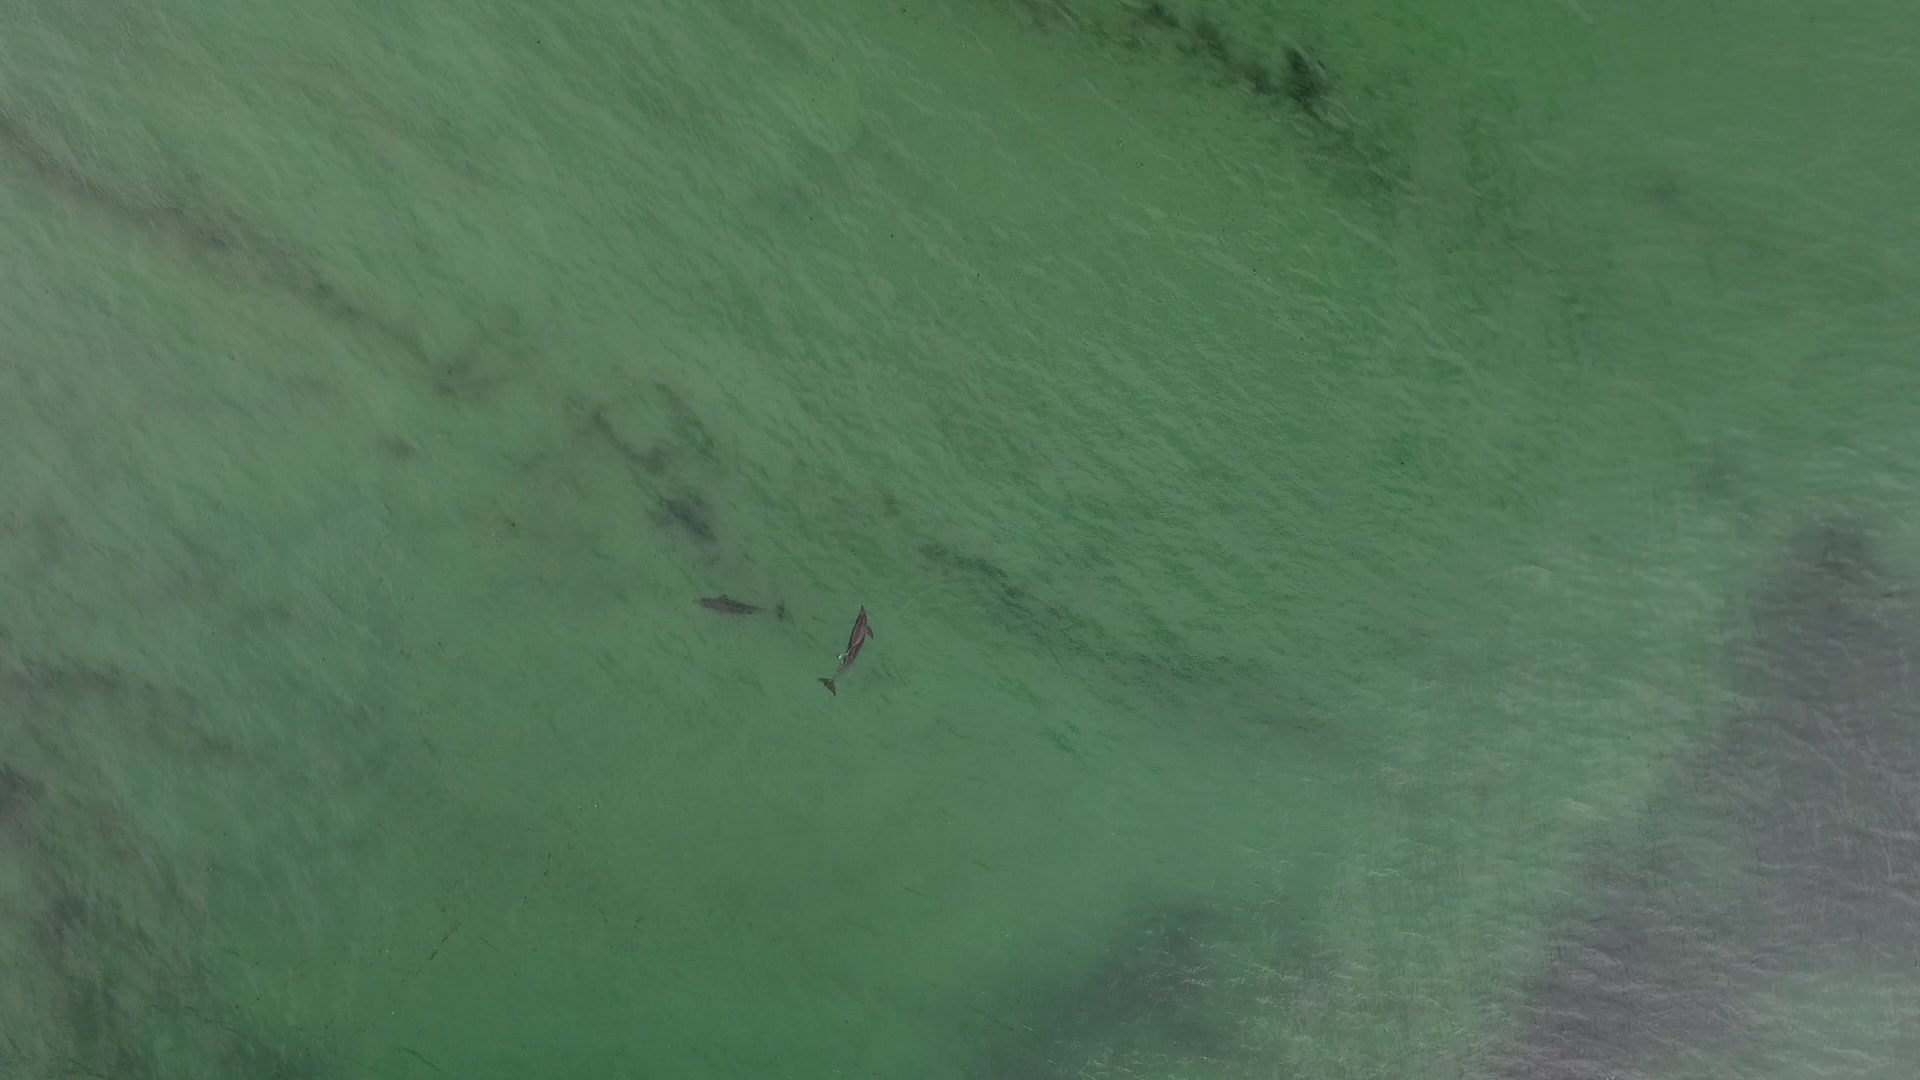dolphin: (799, 585, 891, 704), (670, 574, 796, 637)
